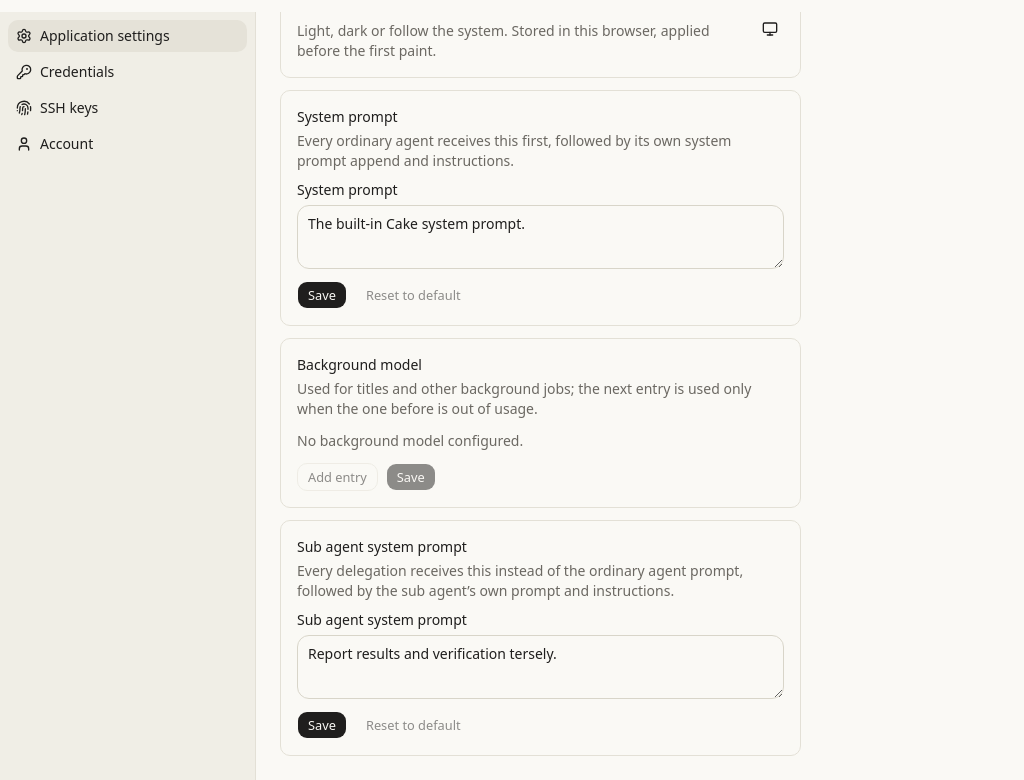
Test: SettingsPage › saves the sub agent prompt and resets it independently
(page scrolled)
Replace the text in the text box labelled "Sub agent system prompt" with "Return facts, paths and checks only." at (540,667), box [297,635,784,699]
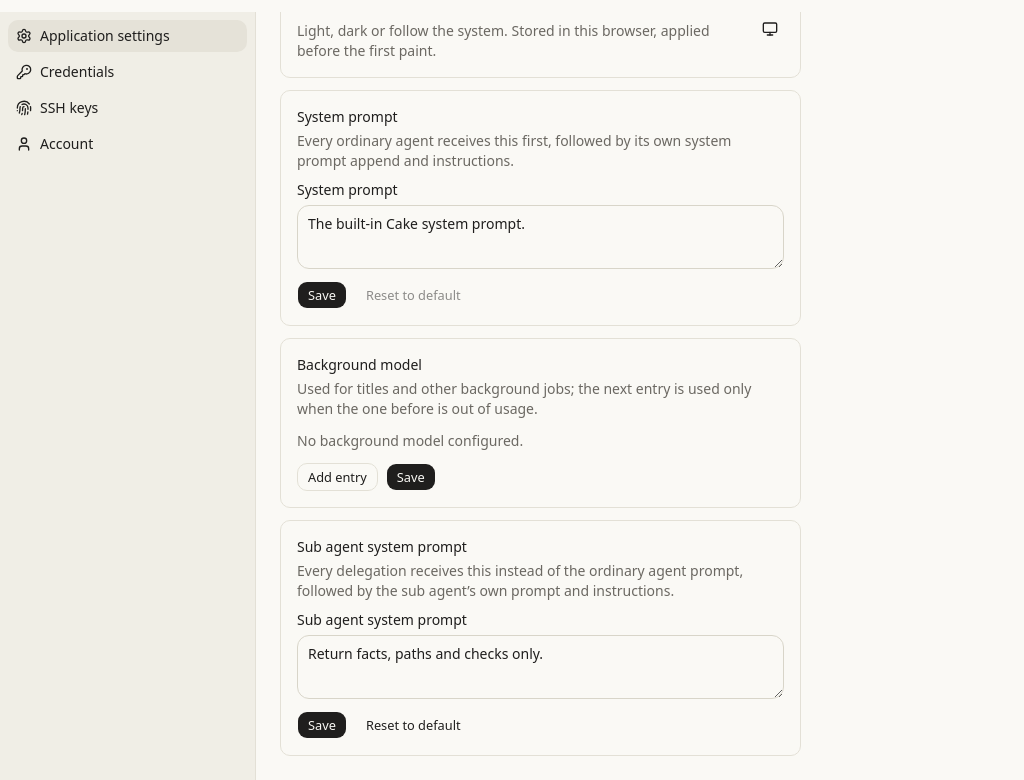
Click the button with aria-label "Save sub agent system prompt".
click(322, 725)  # box [297,711,347,739]
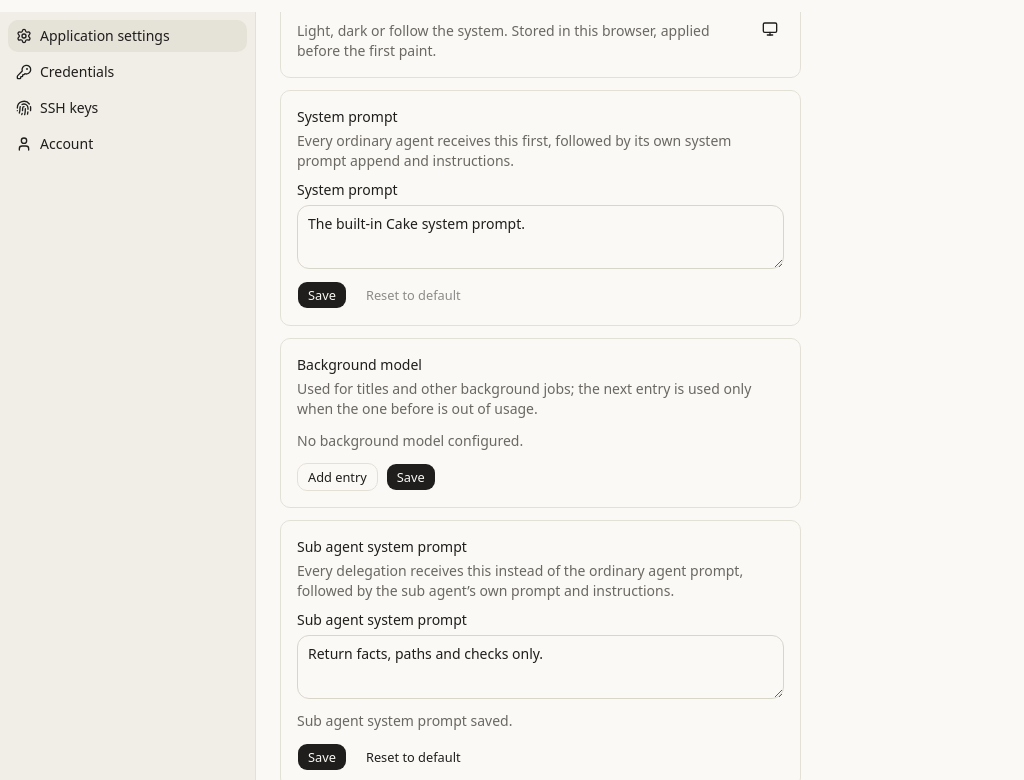
Check: the text box labelled "System prompt" holds "The built-in Cake system prompt.", box [297,205,784,269]
Check: the text "Sub agent system prompt saved." is shown, box [297,711,512,730]
Click the button with aria-label "Reset sub agent system prompt to default".
click(413, 757)  # box [355,743,472,771]
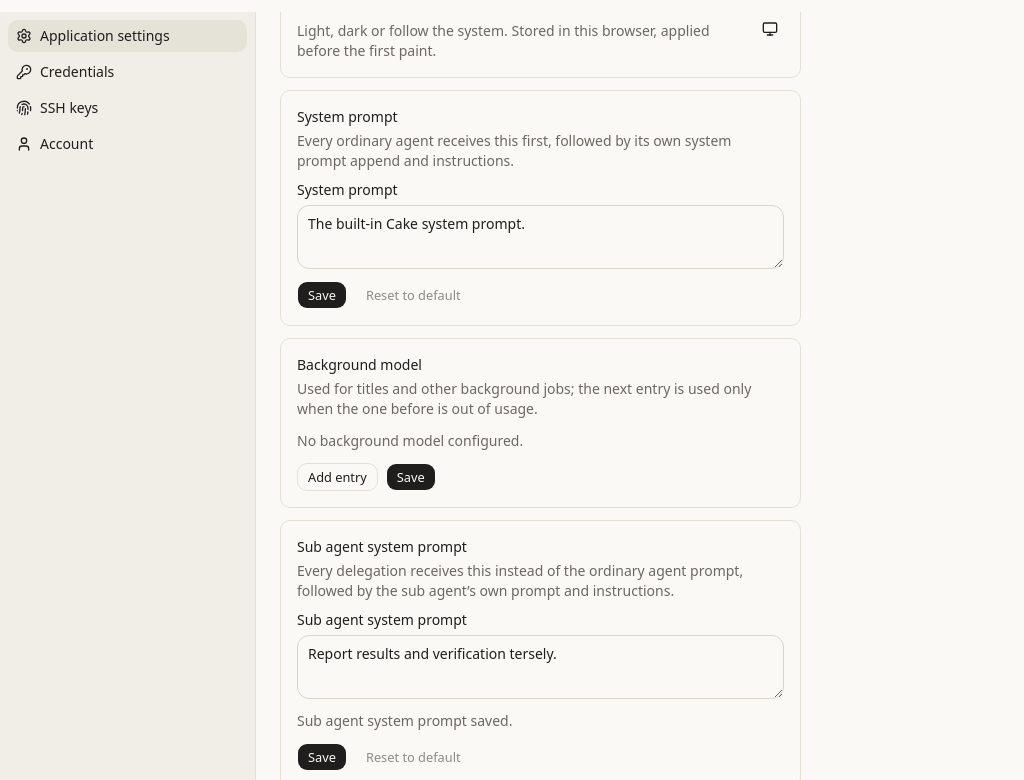
Check: the text box labelled "Sub agent system prompt" holds "Report results and verification tersely.", box [297,635,784,699]
